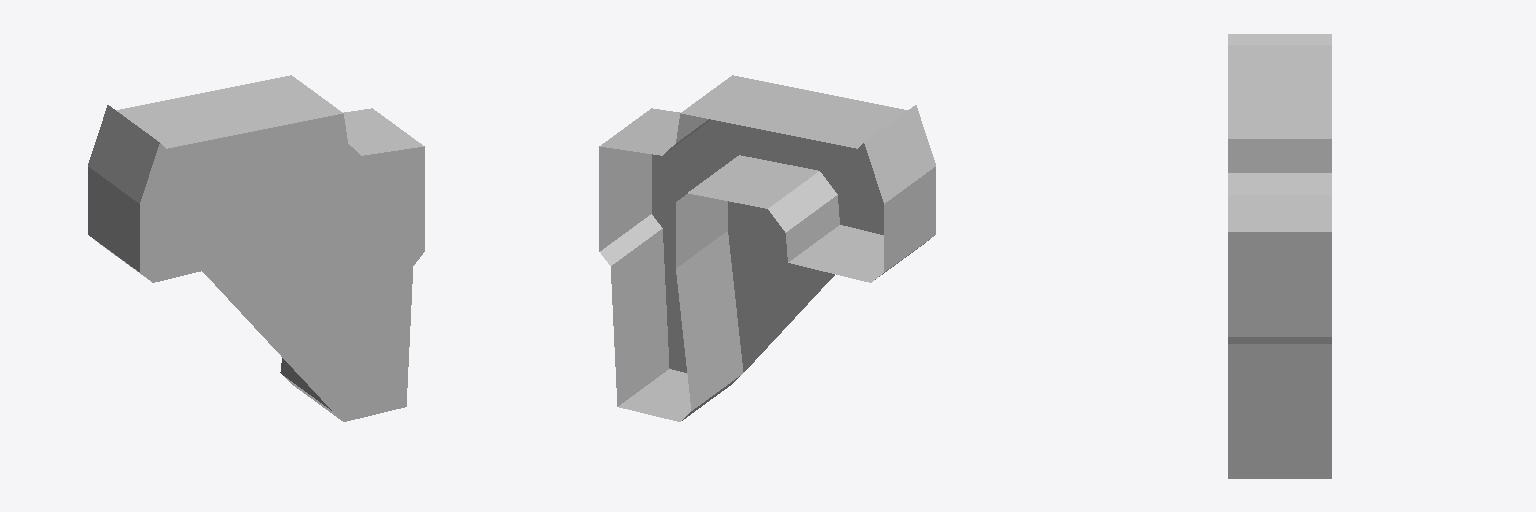
Rendered from building-75.obj.
The picture shows the model from 3 angles: view 1: azimuth 30°, elevation 25°; view 2: azimuth 150°, elevation 25°; view 3: azimuth 270°, elevation 25°; orthographic projection.
Size of the model in its own units: 38.09 by 41.5 by 12.08.